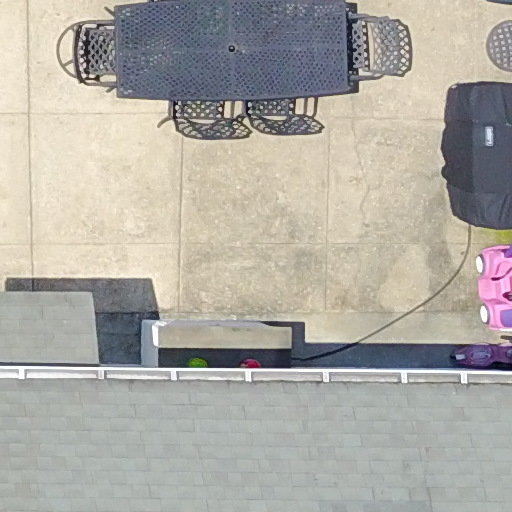toy: (469, 238, 512, 345), (453, 330, 512, 371)
